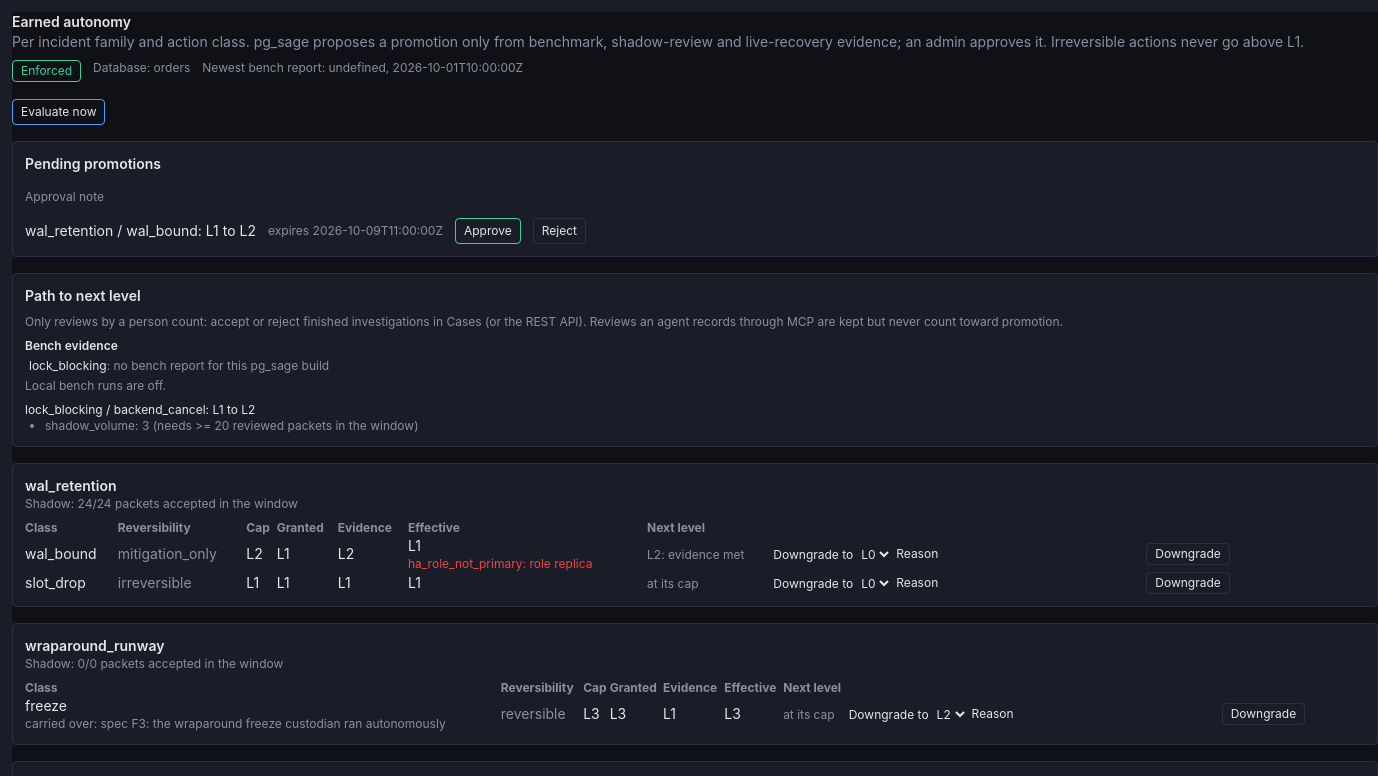
Test case: AutonomyPage › surfaces a failed action
Step 1. Click the button "Approve" → (488, 231), box [455,218,521,244]
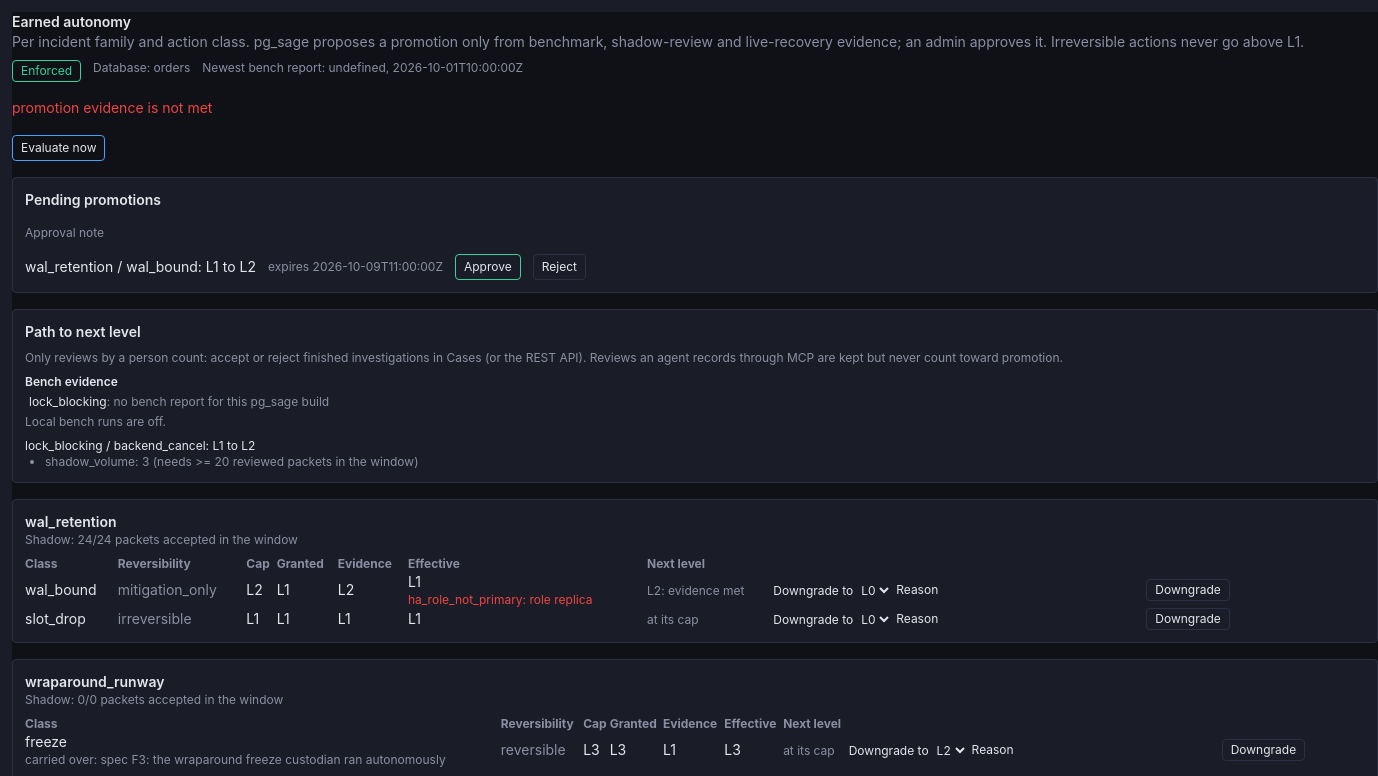
Check: the message shows "evidence is not met", box [12,99,212,116]
